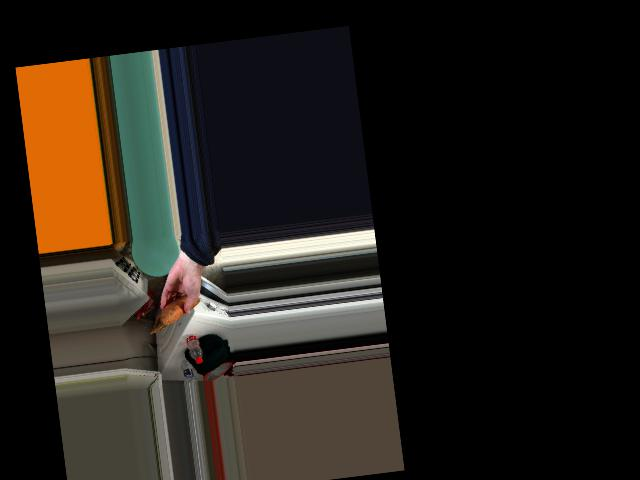sweet_potato: (161, 291, 196, 324)
